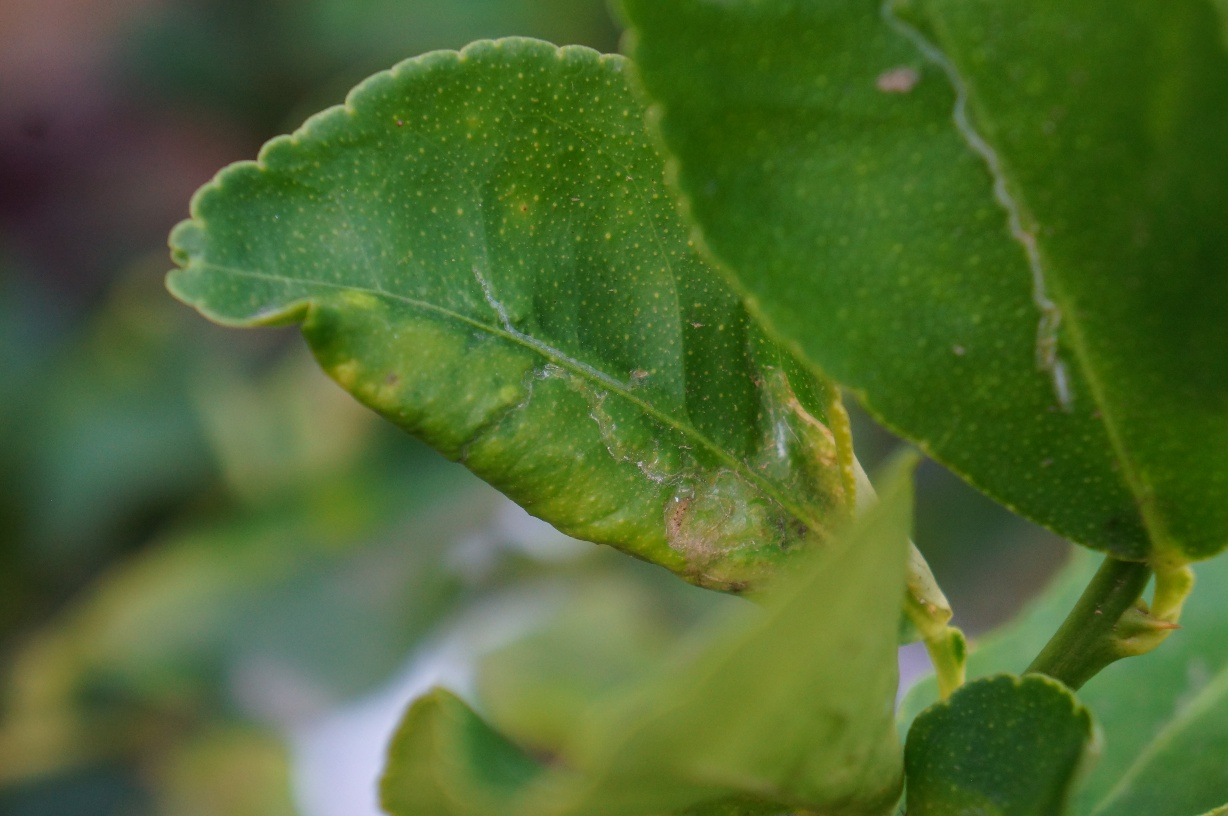damage: (455, 258, 674, 407)
